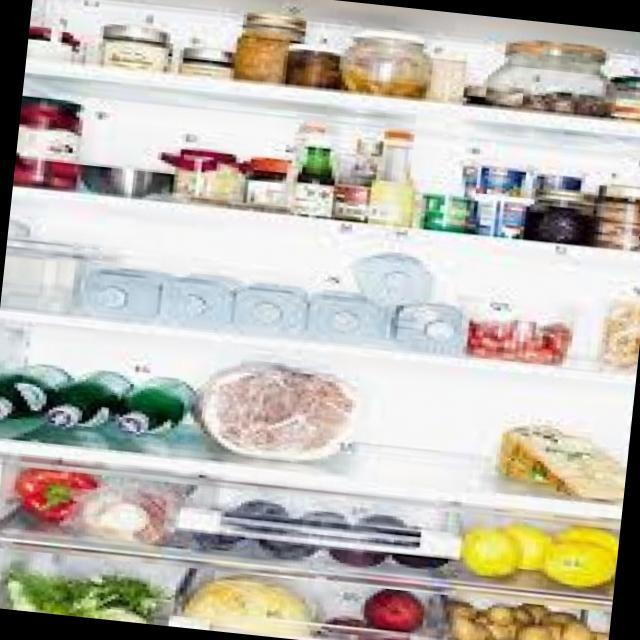Limón: (435, 496, 621, 592)
Patata: (443, 586, 611, 640)
peppers: (0, 448, 120, 537)
